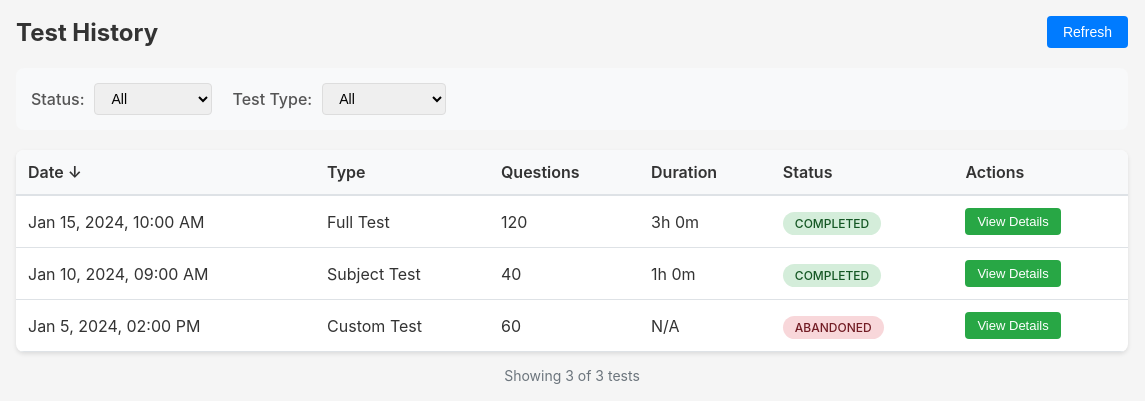
TestHistoryList › should filter by test type
This screenshot has width=1145, height=401.
Expected: the text "Showing 3 of 3 tests" is shown, top-left (504, 367), bottom-right (640, 384)
Filter by full test
Select "Full Test" in the dropdown labelled "Test Type:": (384, 99) top-left (322, 83), bottom-right (446, 115)
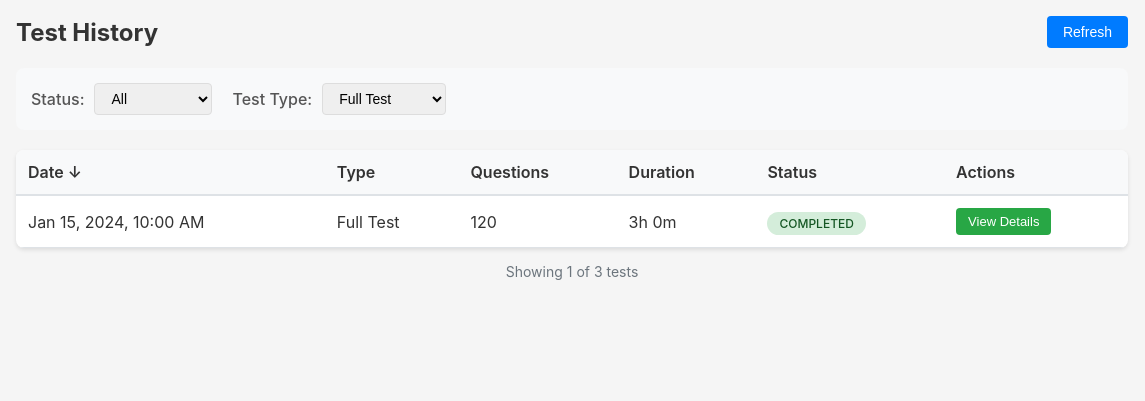
Expected: the text "Showing 1 of 3 tests" is shown, top-left (506, 263), bottom-right (638, 280)
